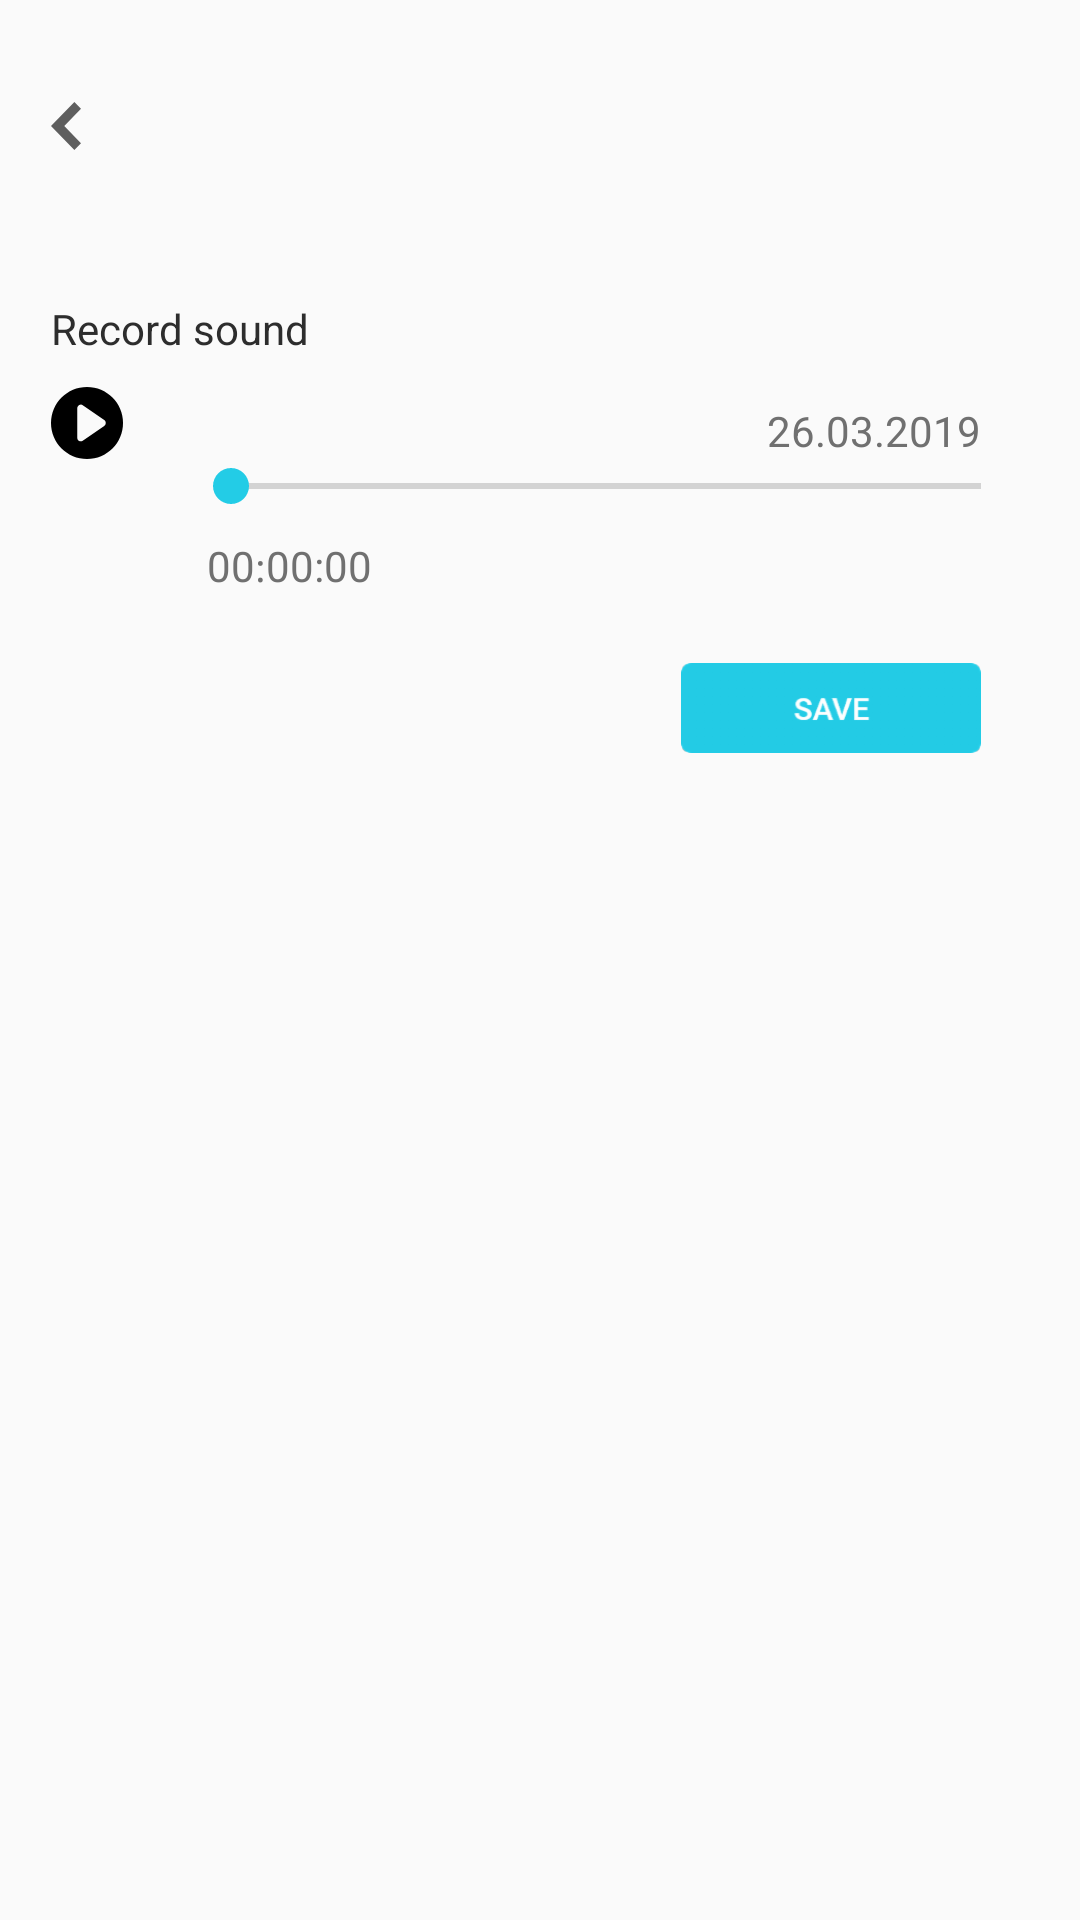

Point at icon controls on the screen. Image size 1080×1920, points as [x,y].
arrow left: [66,126]
